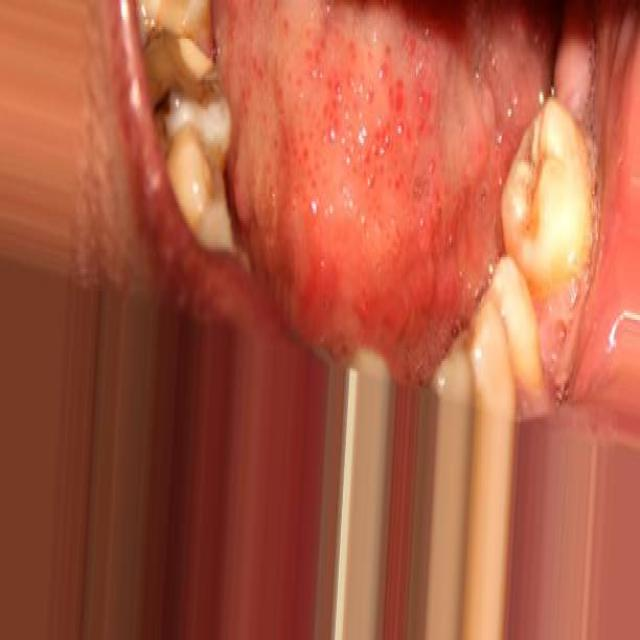caries: (144, 21, 233, 162)
